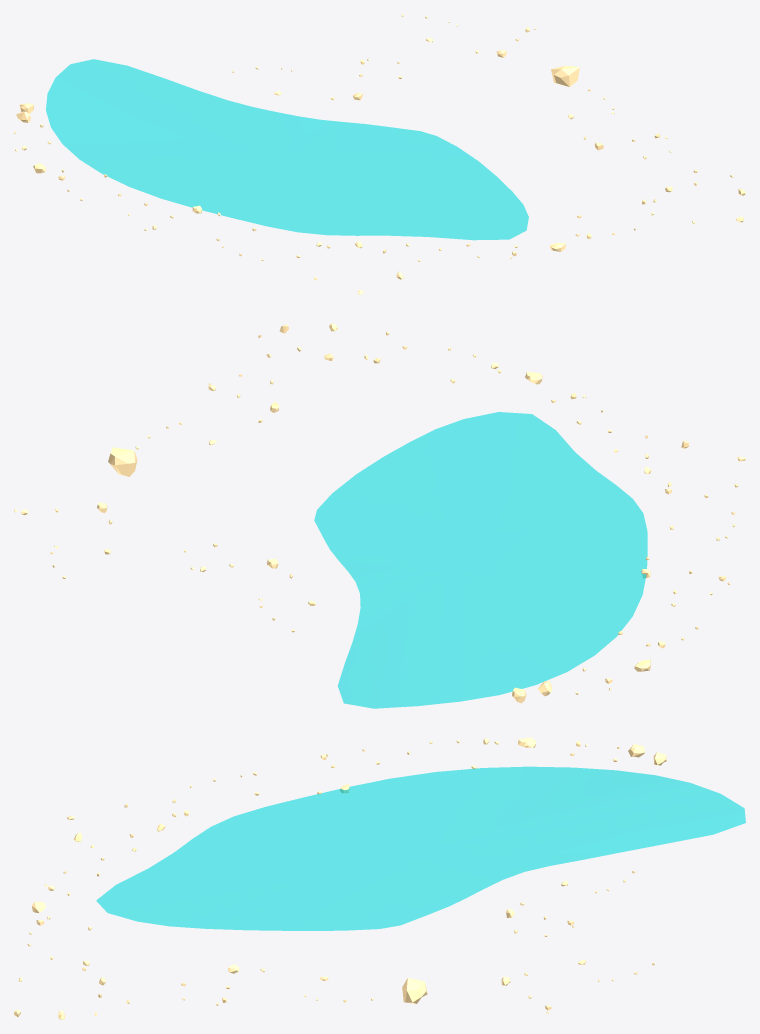
File: noColls.glb
3 renders of one model, top to bottom at view 1: azimuth 30°, elevation 25°; view 2: azimuth 150°, elevation 25°; view 3: azimuth 270°, elevation 25°, orthographic. The views are drawn at different scales.
Parts seen in each view (by area): view 1: water, piedras; view 2: water, piedras; view 3: water, piedras.
Part boxes in pixels (x1,y1,x2,y2): water: (46,59,528,240); piedras: (14,14,745,294); water: (314,412,647,708); piedras: (14,323,745,703); water: (96,766,745,930); piedras: (14,737,666,1019).
Size of the model in its own units: 35.64 by 2.09 by 38.76.
Materials: 2 (2 with a texture image).
